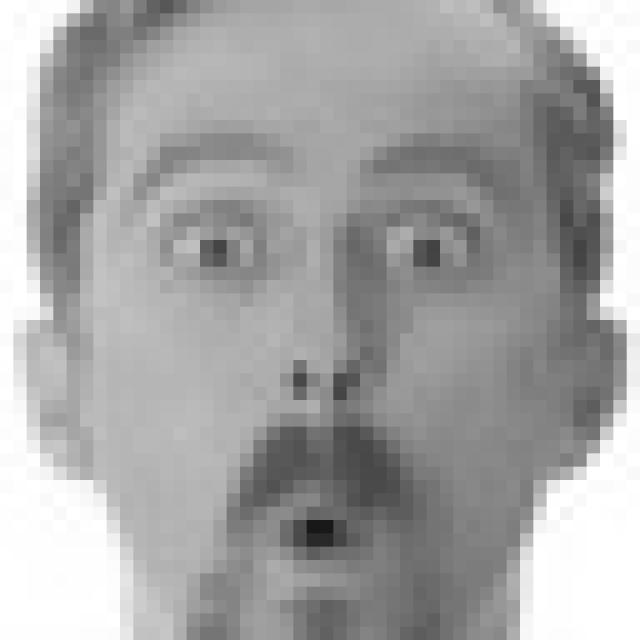surprise: (127, 133, 519, 607)
